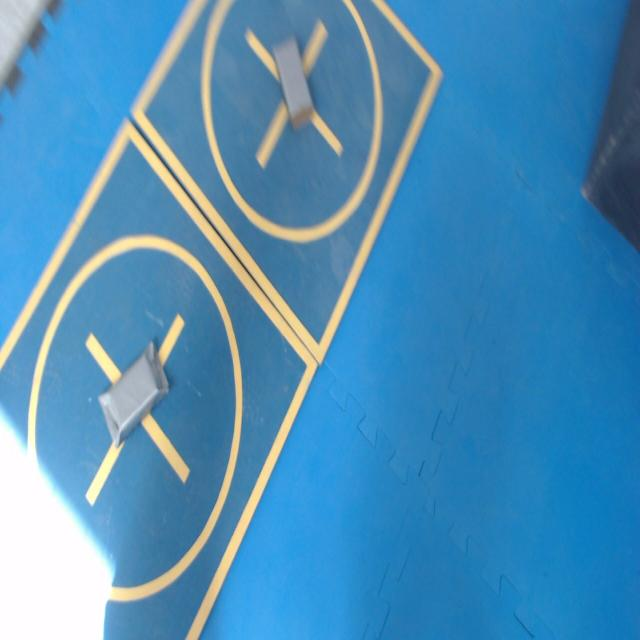lipo: (99, 342, 168, 445), (274, 37, 313, 128)
